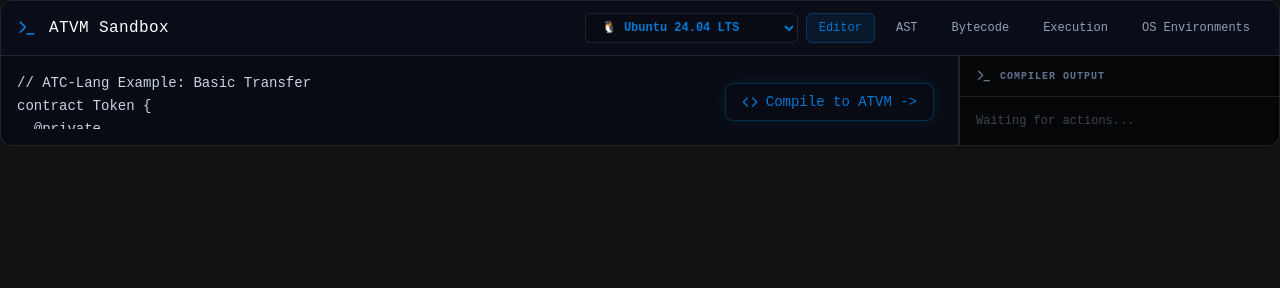
AtvmSandboxView compiler validation › aborts compilation on invalid syntax
This screenshot has width=1280, height=288.
Find the textarea (there's only one in the editor tab)
Replace the text in the text box with "invalid syntax without keyword". click: (480, 100)
box: [17, 72, 942, 129]
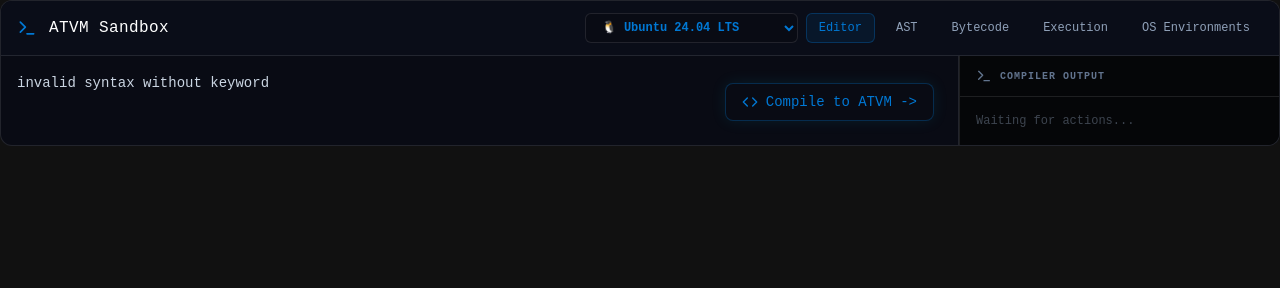
Click the button "Compile to ATVM ->". click: (829, 102)
box: [725, 83, 934, 121]
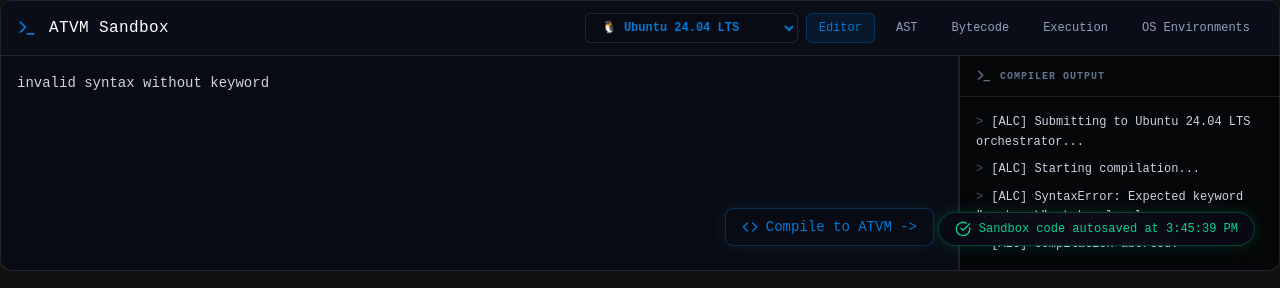
Check: the text "SyntaxError: Expected keyword \"contract\" at top-level." is shown, box [976, 190, 1243, 223]
Check: the text ">[ALC] Compilation aborted." is shown, box [976, 236, 1178, 250]
